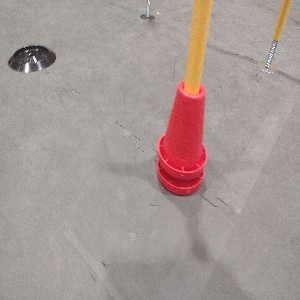Red_2: (156, 78, 207, 195)
